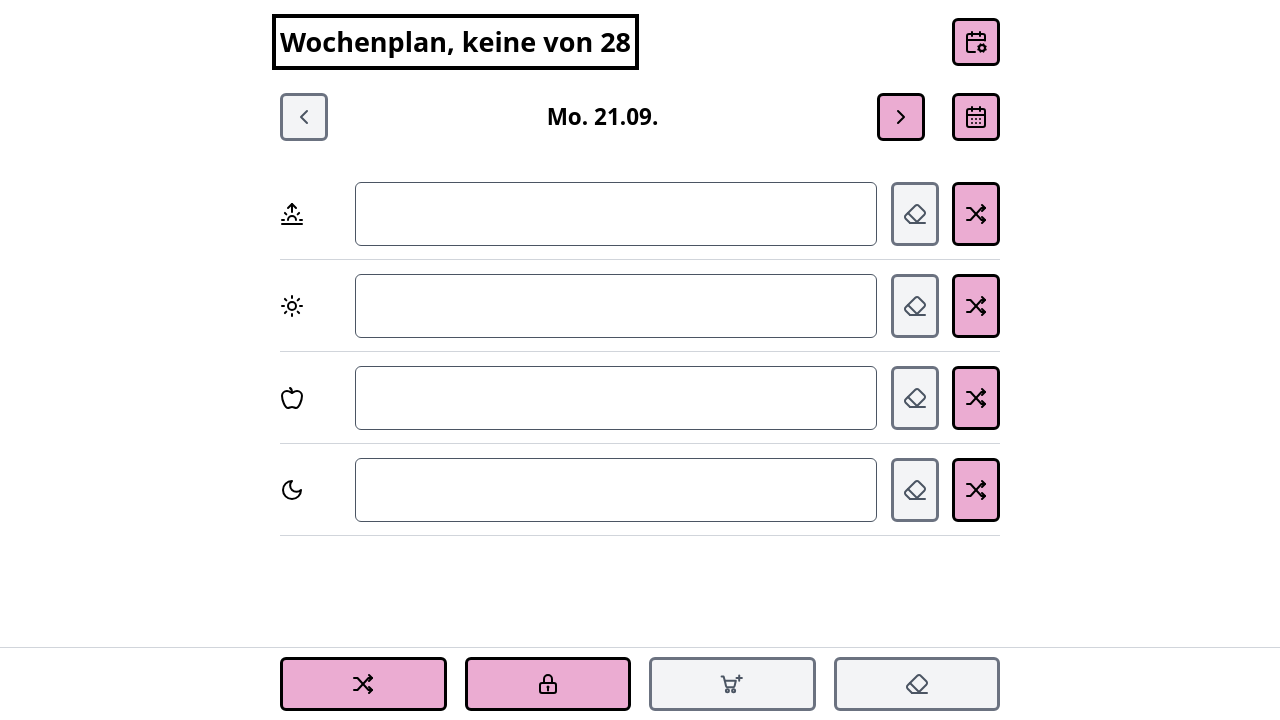
Test case: WeekPlanArea › keeps the meal of a suggestion that was pressed
The image size is (1280, 720).
In the field named "Snack": (616, 398) top-left (355, 366), bottom-right (877, 430), type "pi"
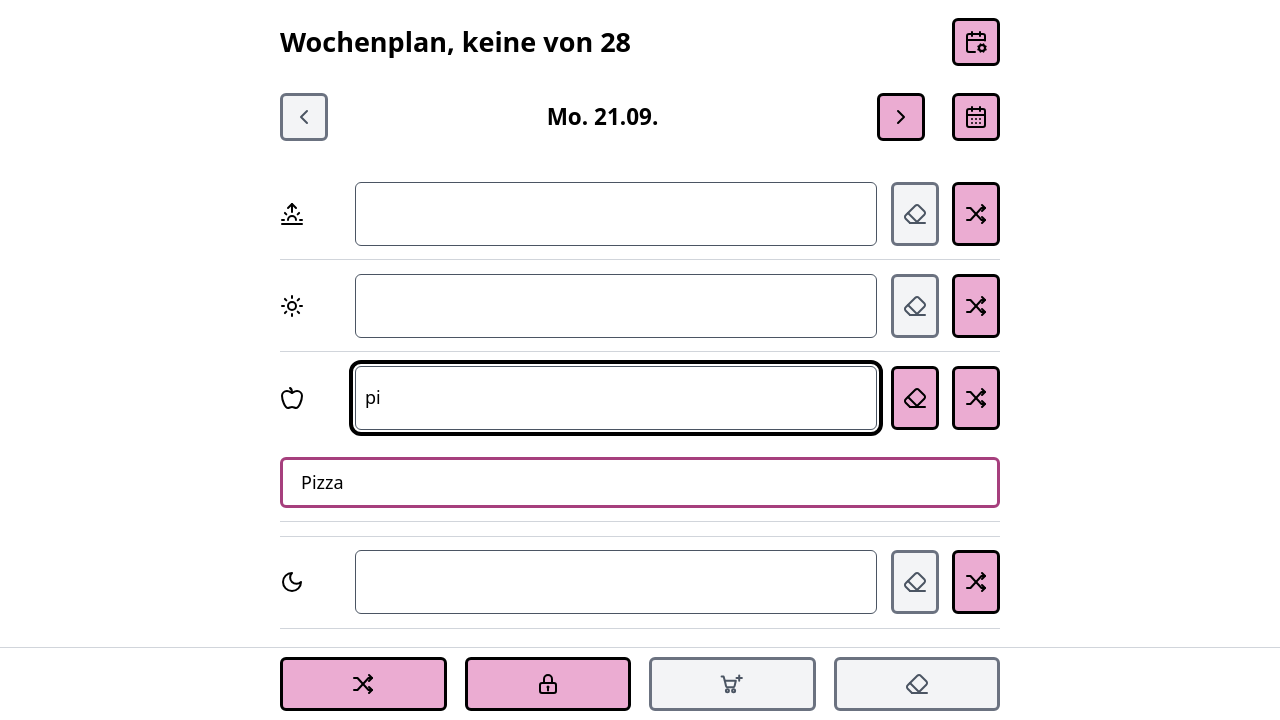
Click the button "Pizza": (322, 482) top-left (280, 456), bottom-right (1000, 508)
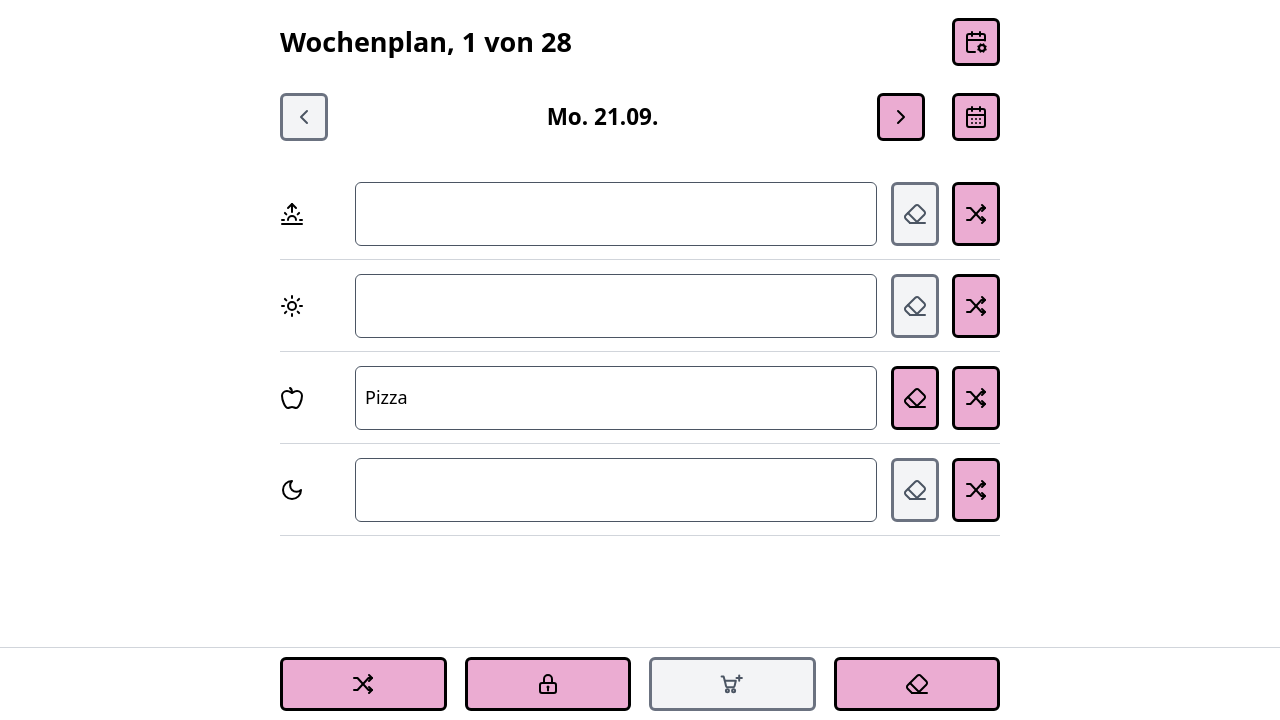
Expected: the field named "Snack" holds "Pizza", top-left (355, 366), bottom-right (877, 430)
Expected: the heading "Wochenplan, 1 von 28" is shown, top-left (280, 22), bottom-right (572, 62)
